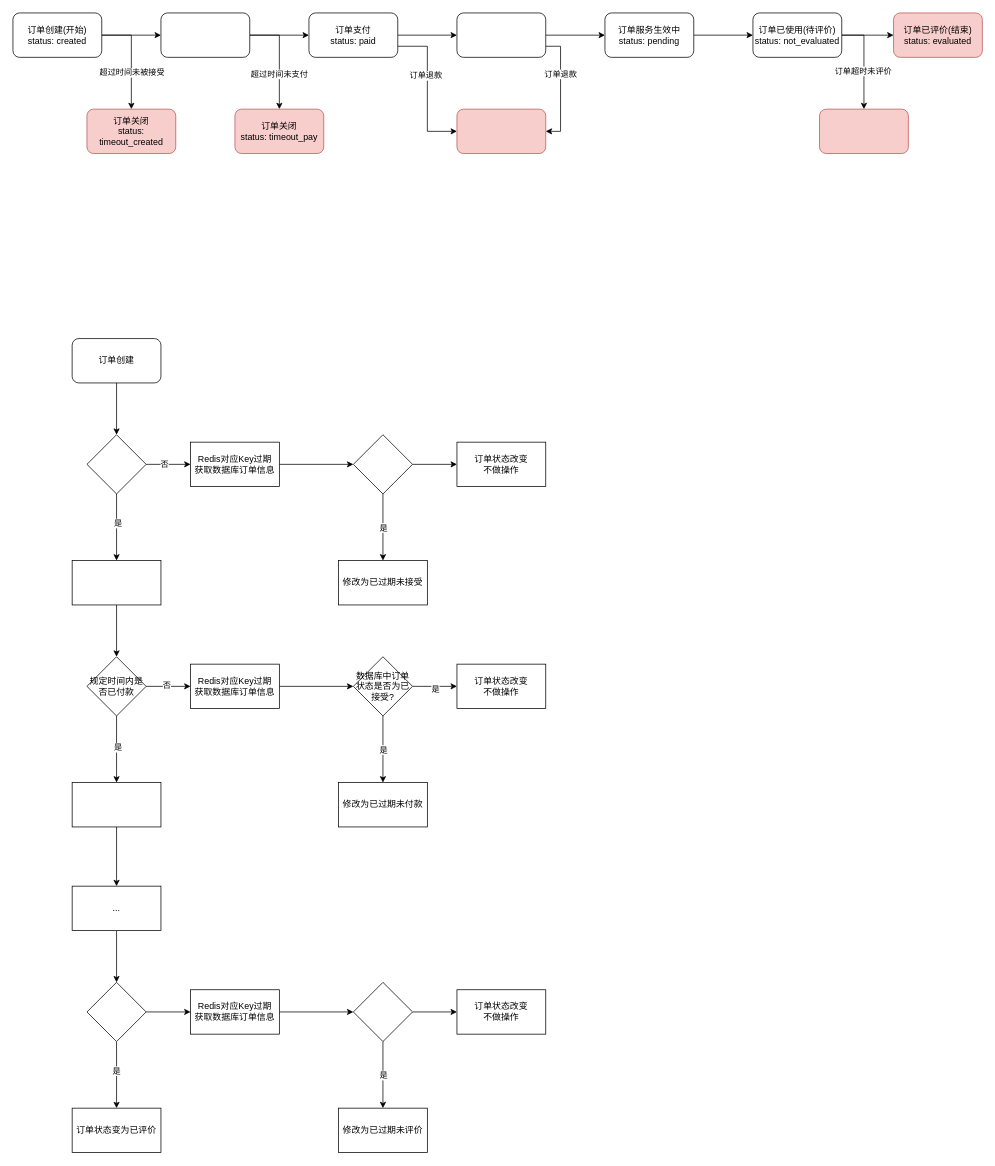
The diagram is 995 pixels wide and 1166 high, and some of its shapes have lost their labels. Each missing label, with the centre of its shape:
数据库中订单状态是否为创建?: the point at 383,464
数据库中订单状态是否为未评价?: the point at 383,1012
规定时间内是否被接受?: the point at 116,464
规定时间内是否评价?: the point at 116,1012
订单关闭 status: refunded: the point at 501,131
订单关闭 status: timeout_evaluated: the point at 863,131
订单接受 status: accepted: the point at 205,34
订单服务待使用 status: not_used: the point at 501,34
订单状态变为accepted: the point at 116,582
订单状态变为paid: the point at 116,804
